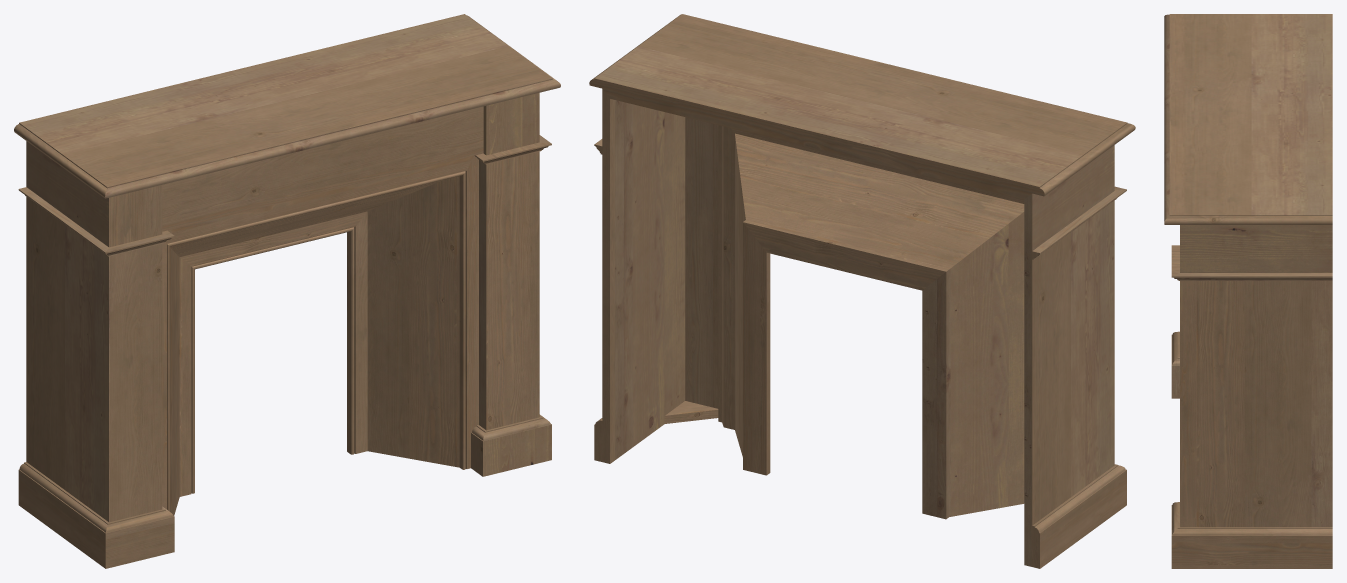
File: example82.glb
3 renders of one model, left to right at view 1: azimuth 30°, elevation 25°; view 2: azimuth 150°, elevation 25°; view 3: azimuth 270°, elevation 25°, orthographic. The views are drawn at different scales.
Visible parts, largest first — view 1: Buffer Layer; view 2: Buffer Layer; view 3: Buffer Layer.
Boxes of the visible parts, x1,y1,x2,y2 form: Buffer Layer: (14,14,560,568); Buffer Layer: (589,14,1135,568); Buffer Layer: (1164,14,1332,568).
Bounding box in the file's own units: 1 × 0.8015 × 0.3462.
Materials: 1 (1 with a texture image).
